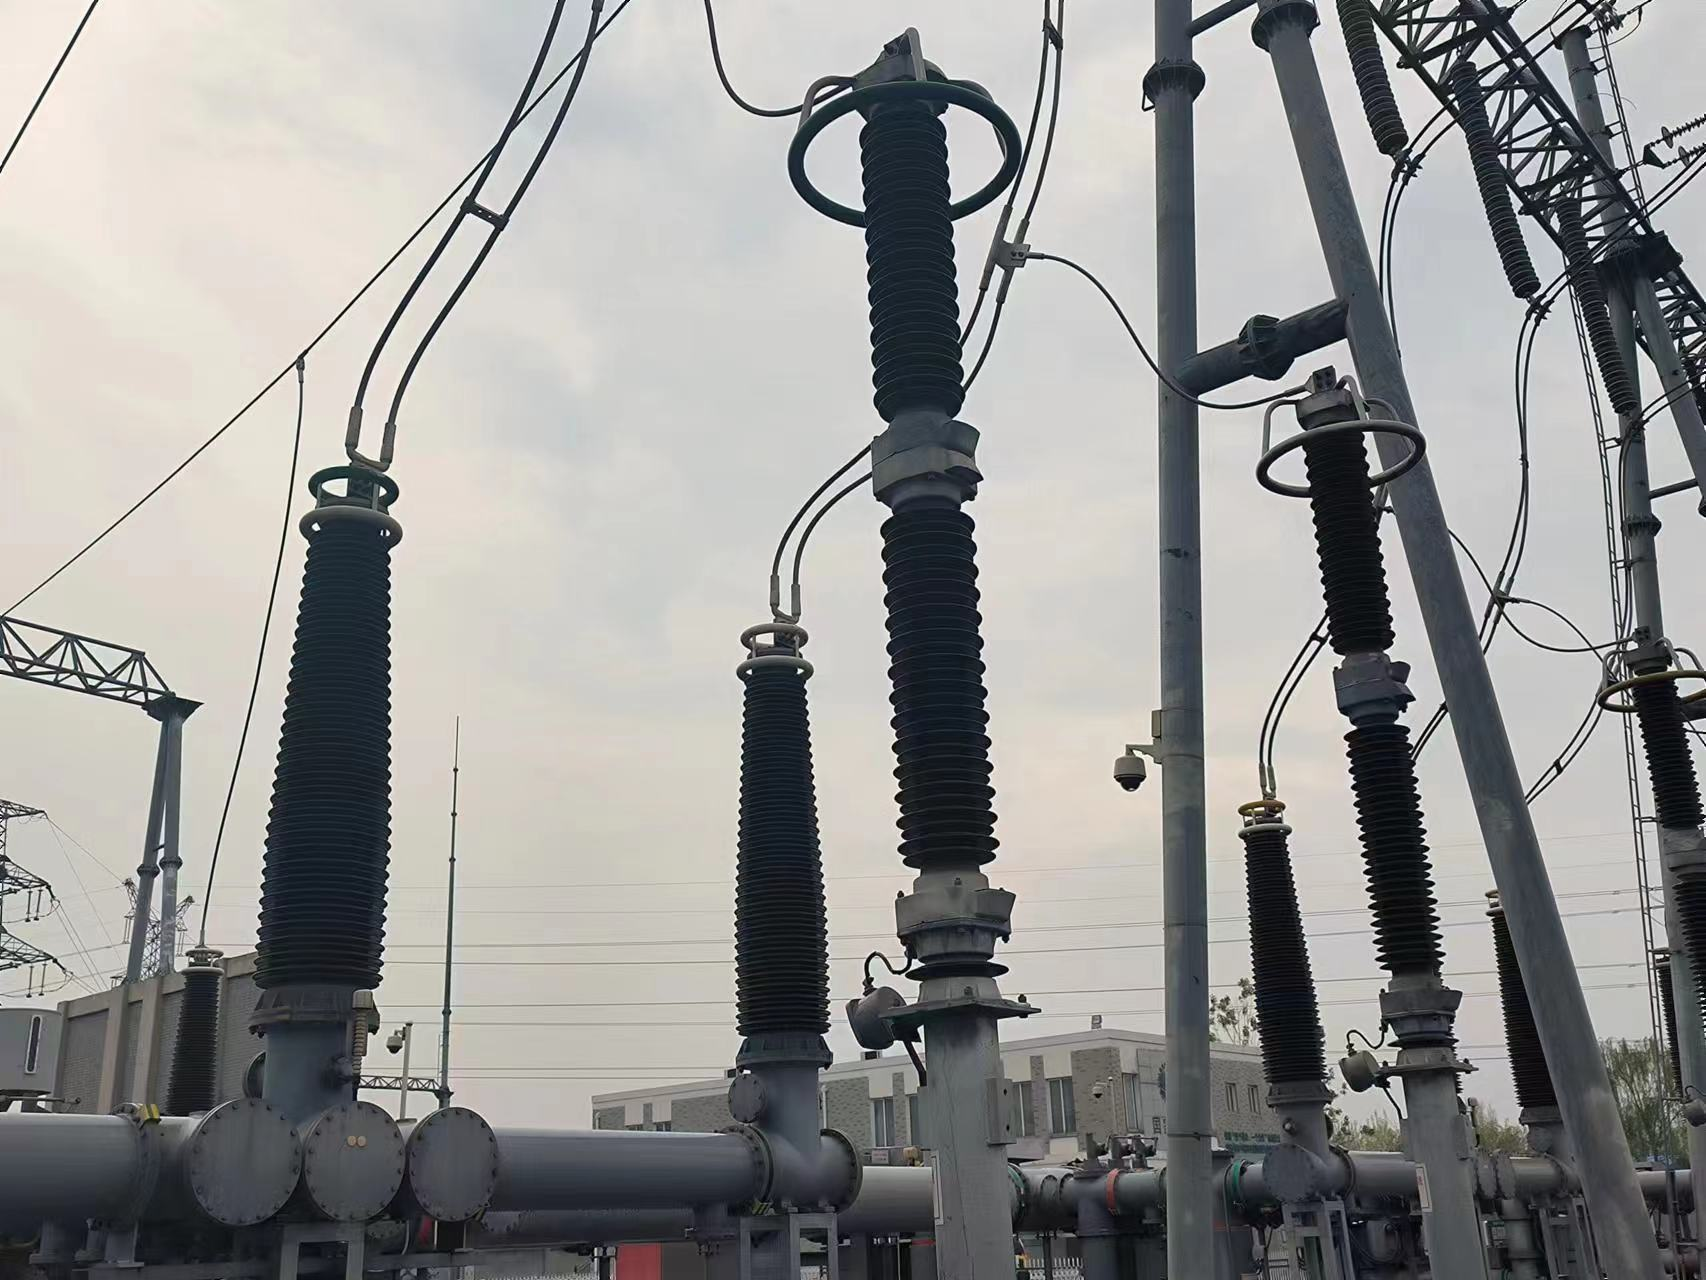Arrester: (786, 23, 1032, 965), (1249, 362, 1448, 1012)
Circuit-breaker: (245, 465, 432, 1029), (715, 618, 842, 1070), (1223, 795, 1340, 1103)
